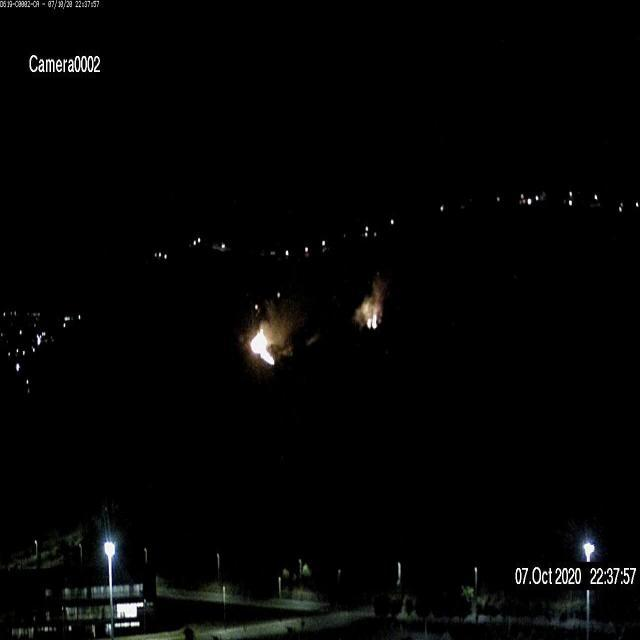Fire: (248, 320, 278, 364)
Smoke: (236, 300, 304, 378), (356, 277, 388, 329)
